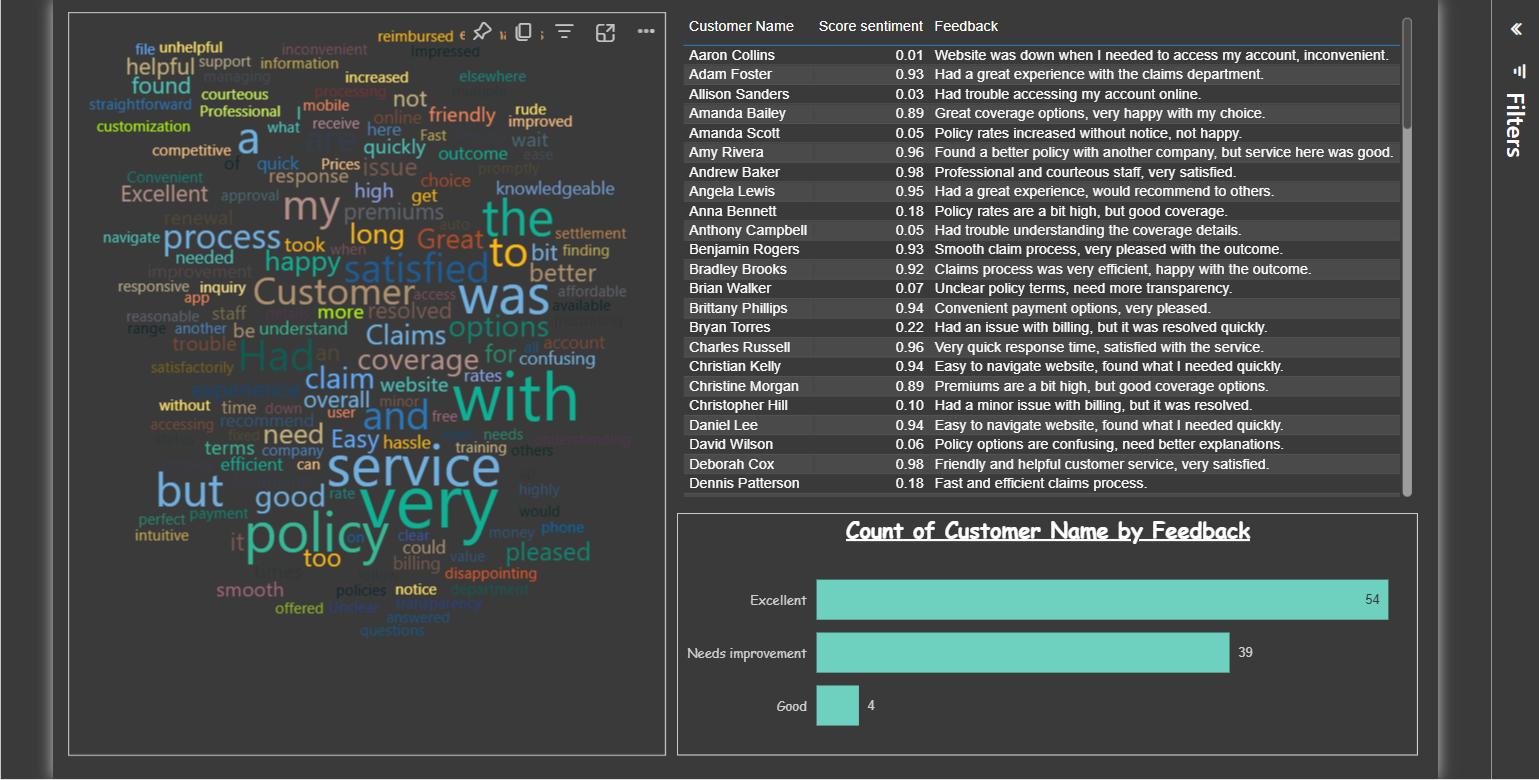

Layout of this report page (visuals, bound fields, positions):
{"tool":"powerbi","page":{"name":"Page 3","canvas":[1280,720],"ordinal":2},"visuals":[{"type":"WordCloud1447959067750","fields":{"Category":["Sheet1.Feedback"]},"box":[13.6,10.6,552.7,687.4],"z":0},{"type":"barChart","title":"Count of Customer Name by Feedback","fields":{"Category":["Sheet1.Good/Improvement"],"Y":["CountNonNull(Sheet1.Customer Name)"]},"box":[576.9,473.9,684.4,224.1],"z":1},{"type":"tableEx","fields":{"Values":["Sheet1.Customer Name","Sheet1.Score sentiment","Sheet1.Feedback"]},"box":[576.9,10.6,684.4,452.7],"z":2}]}

Visuals, with their boxes on the page's 1280x720 design canvas (x1, y1, x2, y2). These are canvas units, not pixel positions in the 1539x780 screenshot, which may show the page scaled, cropped or inside an application window:
WordCloud1447959067750 - Sheet1.Feedback: left=14, top=11, right=566, bottom=698
"Count of Customer Name by Feedback" barChart: left=577, top=474, right=1261, bottom=698
tableEx - Sheet1.Customer Name x Sheet1.Score sentiment: left=577, top=11, right=1261, bottom=463
